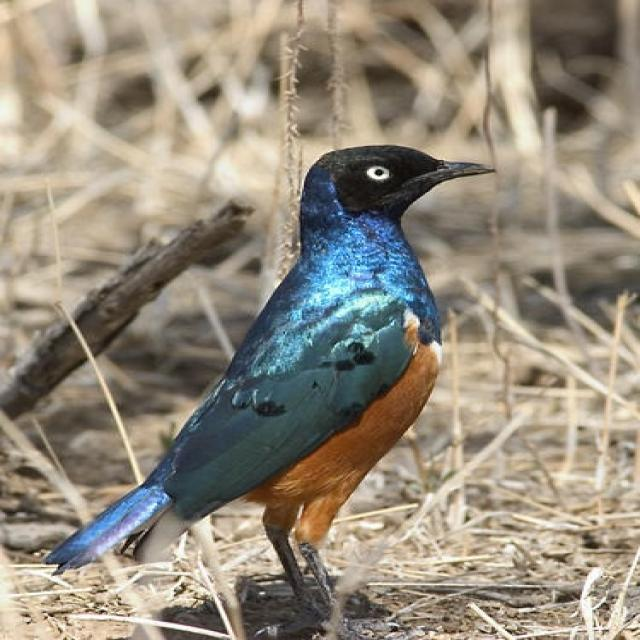bird: (43, 141, 500, 636)
